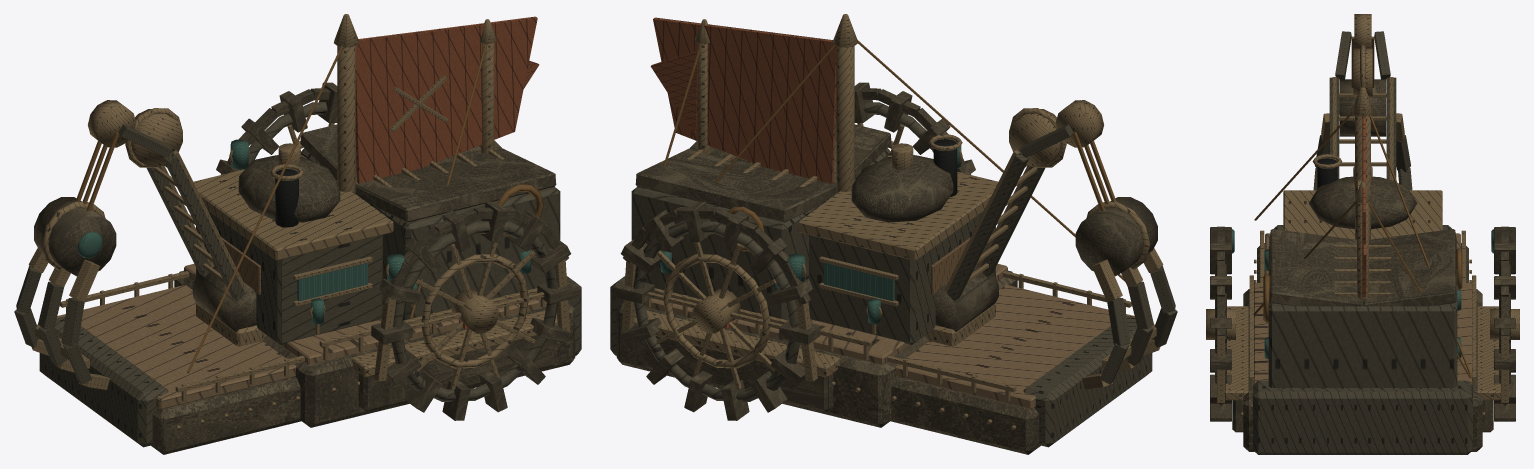
Rendered from dredge-queen.glb.
The picture shows the model from 3 angles, left to right: view 1: azimuth 30°, elevation 25°; view 2: azimuth 150°, elevation 25°; view 3: azimuth 270°, elevation 25°; orthographic projection. The views are drawn at different scales.
Visible parts, largest first — view 1: hold, claw, paddle_port, paddle_starboard; view 2: hold, claw, paddle_starboard, paddle_port; view 3: hold, claw, paddle_port, paddle_starboard.
Boxes of the visible parts, x1,y1,x2,y2 form: hold: [174, 14, 581, 427]; claw: [14, 100, 304, 454]; paddle_port: [351, 201, 578, 420]; paddle_starboard: [216, 82, 337, 174]; hold: [610, 14, 1124, 427]; claw: [887, 100, 1177, 454]; paddle_starboard: [613, 201, 840, 420]; paddle_port: [835, 82, 975, 174]; hold: [1241, 87, 1484, 454]; claw: [1254, 14, 1471, 283]; paddle_port: [1206, 226, 1248, 432]; paddle_starboard: [1477, 226, 1519, 432].
Size of the model in its own units: 8 by 5.33 by 4.98.
1 material, 1 textured.
